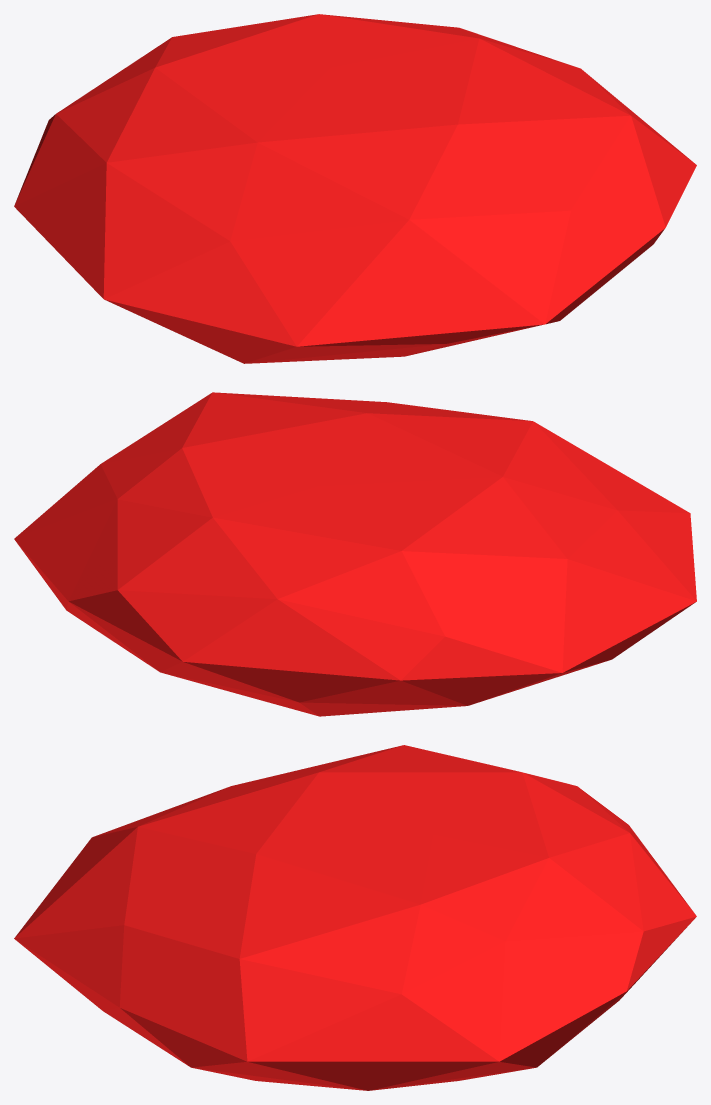
File: sibur.fbx
3 renders of one model, top to bottom at view 1: azimuth 30°, elevation 25°; view 2: azimuth 150°, elevation 25°; view 3: azimuth 270°, elevation 25°, orthographic.
Visible parts, largest first — view 1: Icosphere; view 2: Icosphere; view 3: Icosphere.
Part boxes in pixels (left/top/right/bottom): Icosphere: left=14, top=14, right=696, bottom=363; Icosphere: left=14, top=392, right=696, bottom=716; Icosphere: left=14, top=745, right=696, bottom=1090.
Bounding box in the file's own units: 64.17 × 20.3 × 66.08.
